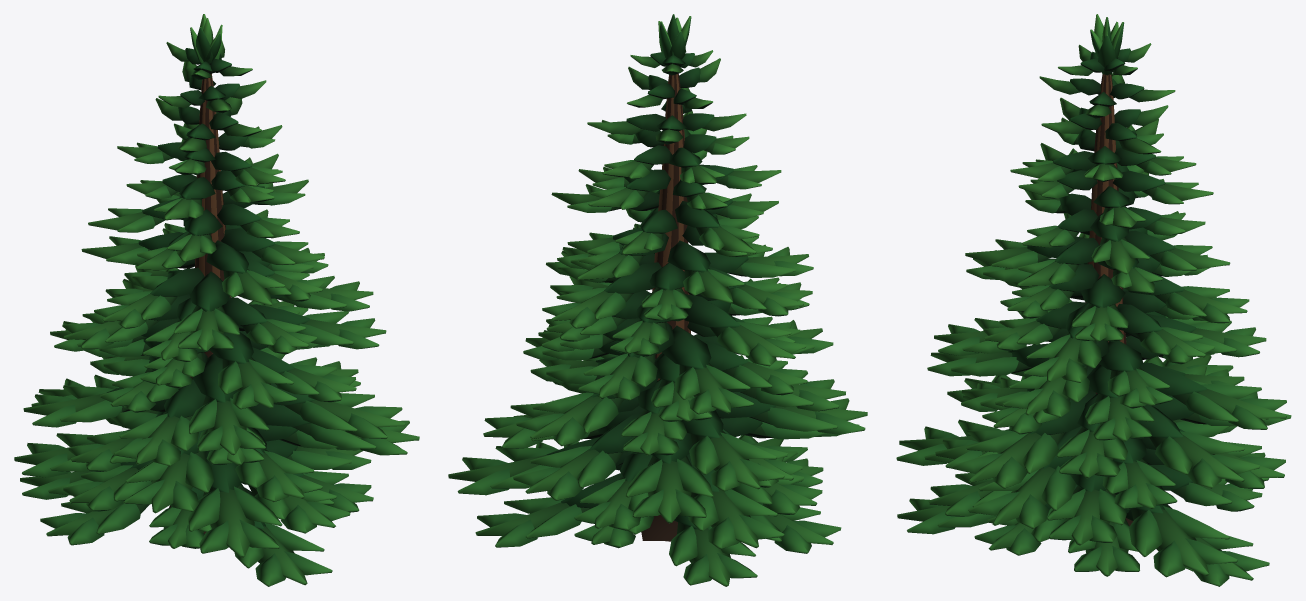
File: tree_spruce.glb
3 views of the same model, side by side, from view 1: azimuth 30°, elevation 25°; view 2: azimuth 150°, elevation 25°; view 3: azimuth 270°, elevation 25° (orthographic). The views are drawn at different scales.
Parts seen in each view (by area): view 1: tree_spruce_needles, tree_spruce_trunk; view 2: tree_spruce_needles, tree_spruce_trunk; view 3: tree_spruce_needles, tree_spruce_trunk.
Part boxes in pixels (x1,y1,x2,y2): tree_spruce_needles: [14, 14, 419, 586]; tree_spruce_trunk: [169, 74, 230, 533]; tree_spruce_needles: [448, 14, 867, 586]; tree_spruce_trunk: [641, 73, 690, 541]; tree_spruce_needles: [896, 14, 1291, 586]; tree_spruce_trunk: [1085, 74, 1132, 525].
Bounding box in the file's own units: 6.54 × 9.32 × 6.48.
